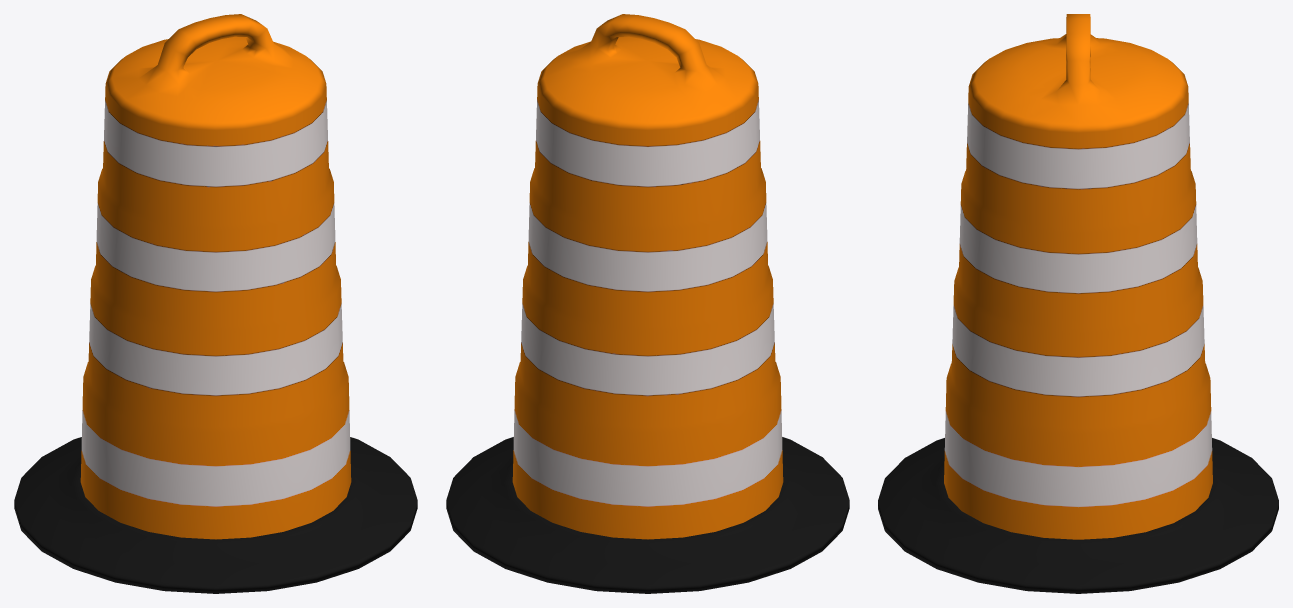
3 renders of one model, left to right at view 1: azimuth 30°, elevation 25°; view 2: azimuth 150°, elevation 25°; view 3: azimuth 270°, elevation 25°, orthographic.
Parts seen in each view (by area): view 1: barrier_low; view 2: barrier_low; view 3: barrier_low.
Part boxes in pixels (x1,y1,x2,y2): barrier_low: (14, 14, 417, 593); barrier_low: (446, 14, 849, 593); barrier_low: (878, 14, 1278, 593).
Bounding box in the file's own units: 0.7096 × 0.9446 × 0.7096.
1 material, 1 textured.
